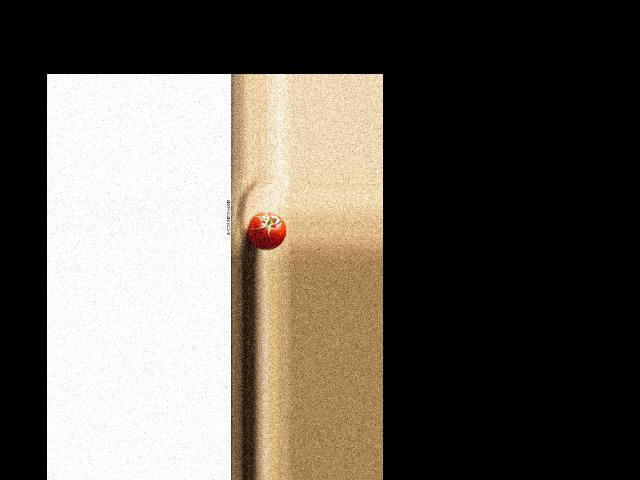tomato: (248, 211, 285, 249)
